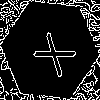X: (25, 25, 77, 79)
